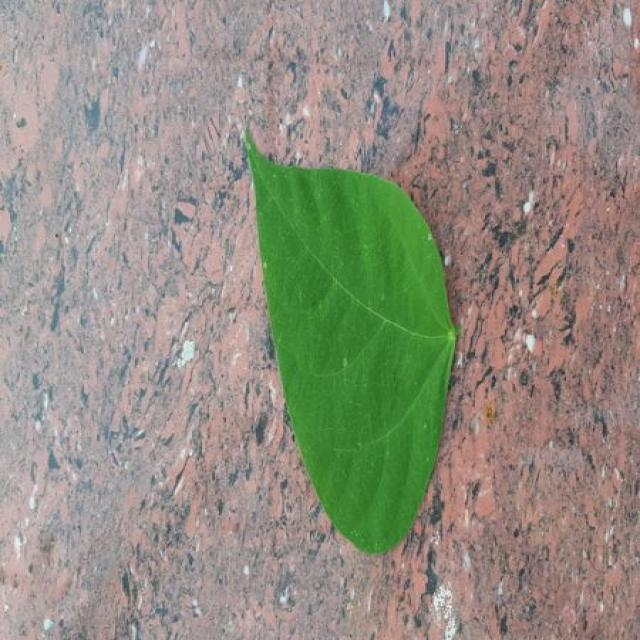beans: (243, 132, 457, 553)
